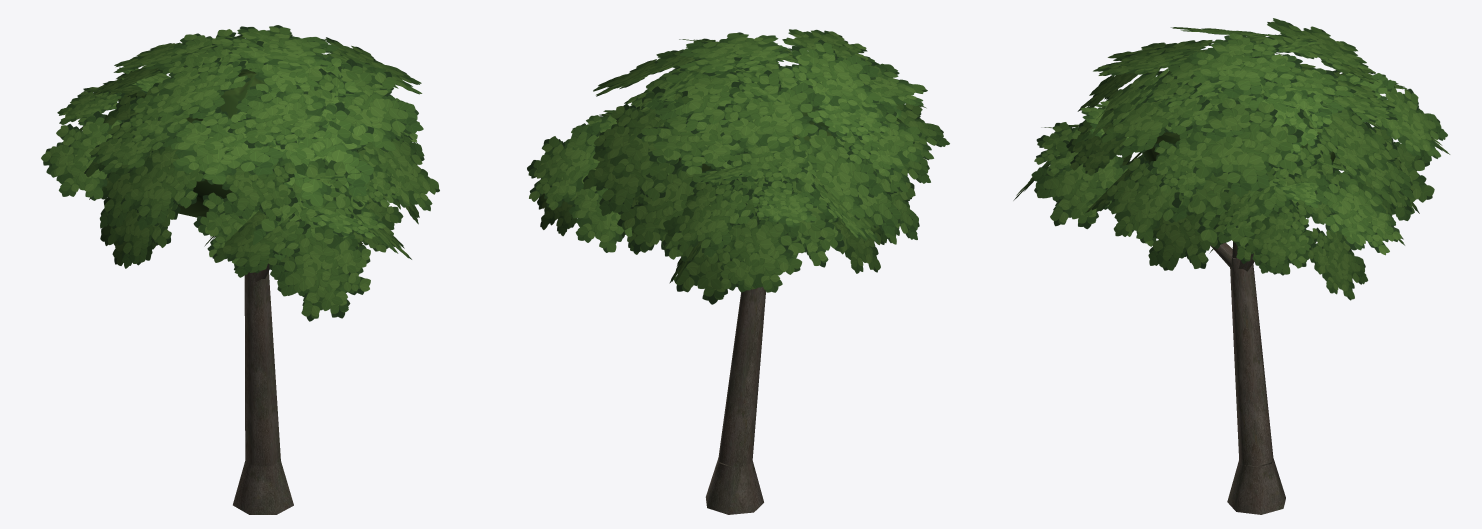
File: tree3.glb
3 views of the same model, side by side, from view 1: azimuth 30°, elevation 25°; view 2: azimuth 150°, elevation 25°; view 3: azimuth 270°, elevation 25° (orthographic). The views are drawn at different scales.
Visible parts, largest first — view 1: Tree; view 2: Tree; view 3: Tree.
Boxes of the visible parts, x1,y1,x2,y2 form: Tree: (41,25,439,514); Tree: (527,29,949,514); Tree: (1013,18,1450,514).
Size of the model in its own units: 8.8 by 10.3 by 9.72.
2 materials, 2 textured.
